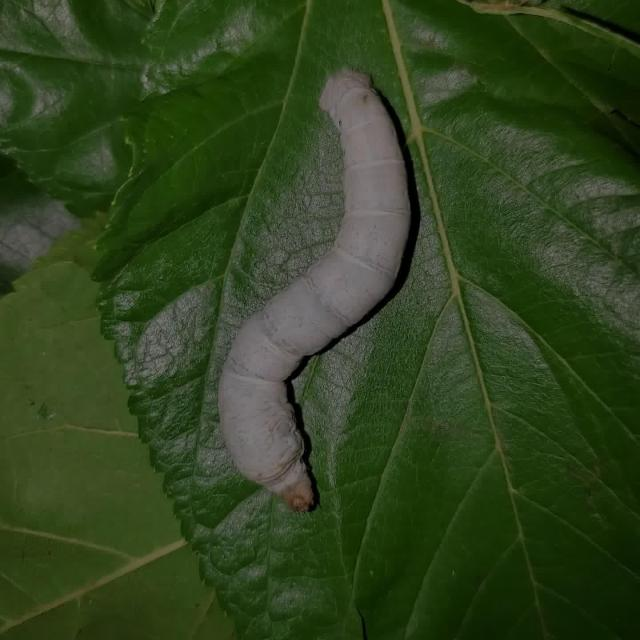Healthy: (209, 55, 428, 528)
